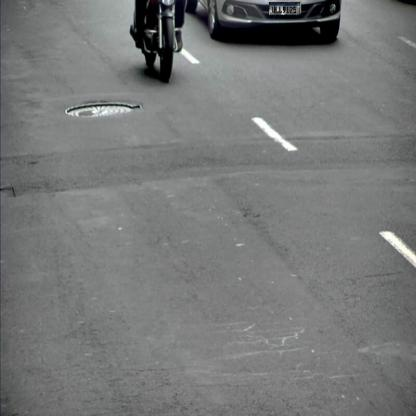PlacaM: (269, 2, 300, 15)
